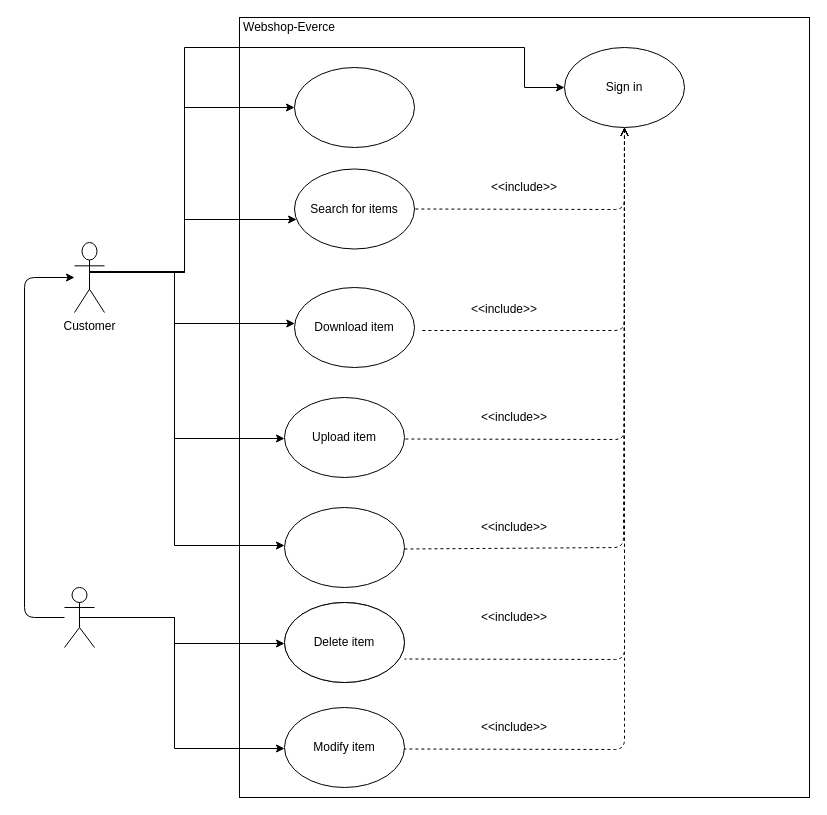
This 827x815 diagram has some shape labels left out. Here are the shapes that lost their labels. From the top down, the centre of each, then its label:
At point (354, 107): "Sign up".
At point (344, 547): "Comment".
At point (79, 617): "Admin".
